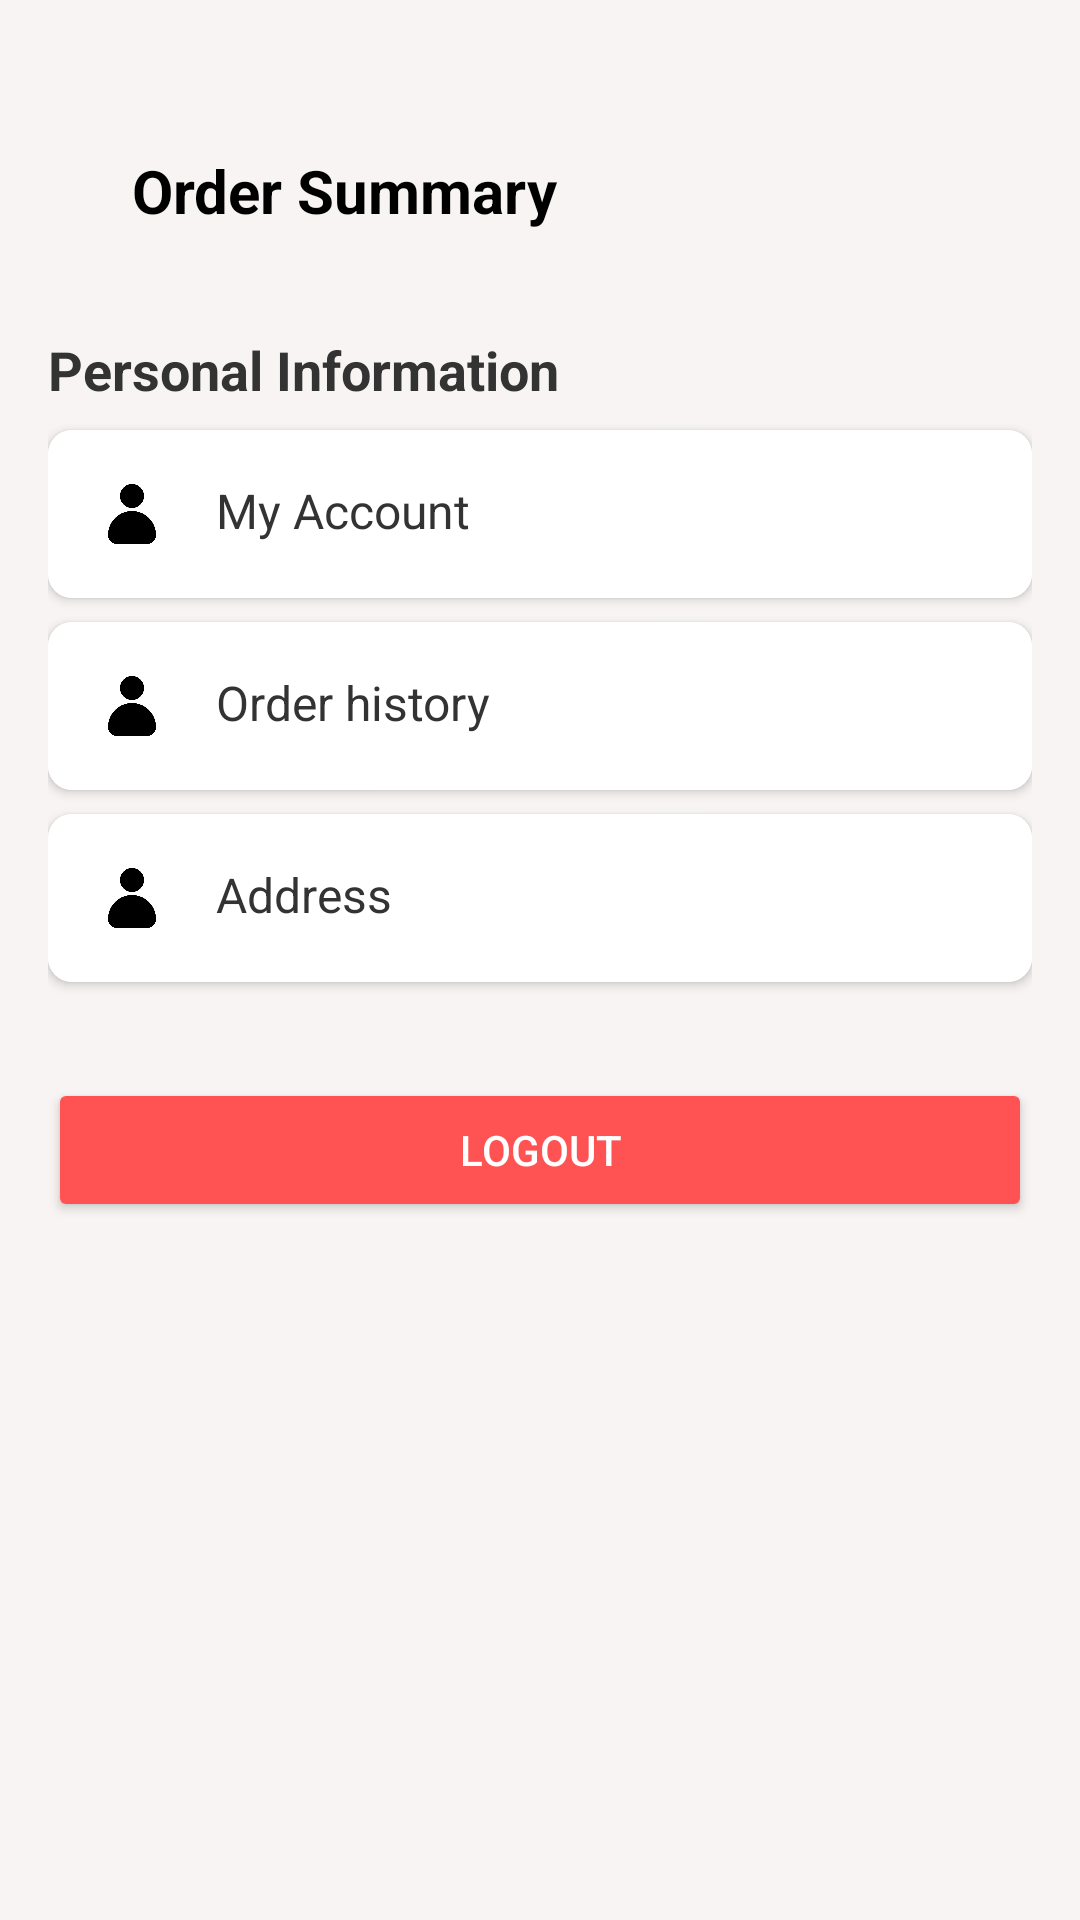

Point at icon controls on the screen. Image size 1080×1920, points as (x,y).
profile: (132,514), (132,706), (132,898)
